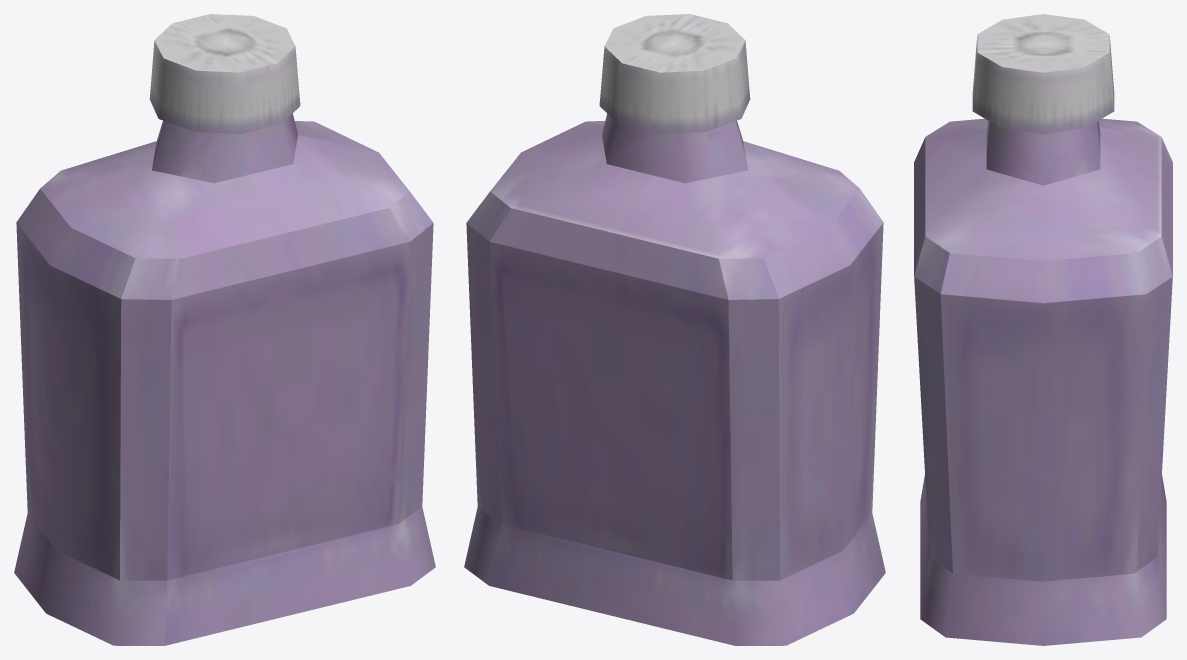
Rendered from eqp_bottle_s01_l1.fbx.
3 renders of one model, left to right at view 1: azimuth 30°, elevation 25°; view 2: azimuth 150°, elevation 25°; view 3: azimuth 270°, elevation 25°, orthographic.
Parts seen in each view (by area): view 1: mesh_node; view 2: mesh_node; view 3: mesh_node.
Boxes of the visible parts, left/top/right/bottom form: mesh_node: left=14, top=14, right=435, bottom=645; mesh_node: left=464, top=14, right=885, bottom=645; mesh_node: left=914, top=14, right=1172, bottom=645.
Size of the model in its own units: 0.0686 by 0.0966 by 0.0438.
